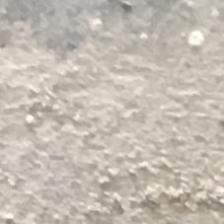Non_Crack: (50, 42, 224, 224)
